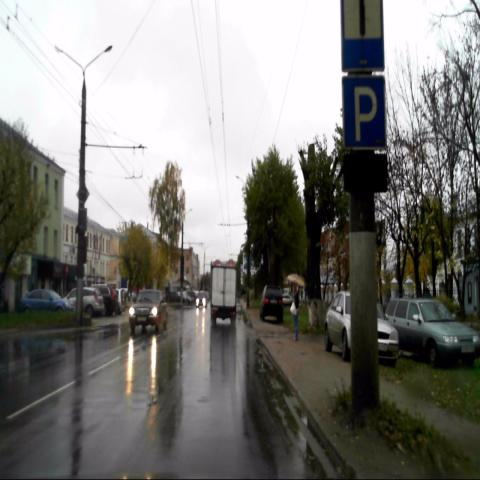6_4: (341, 73, 387, 152)
